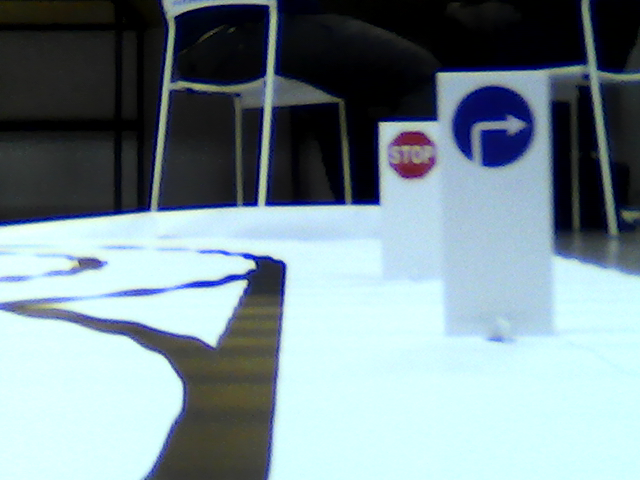Right: (451, 85, 538, 171)
Stop: (387, 129, 437, 184)
